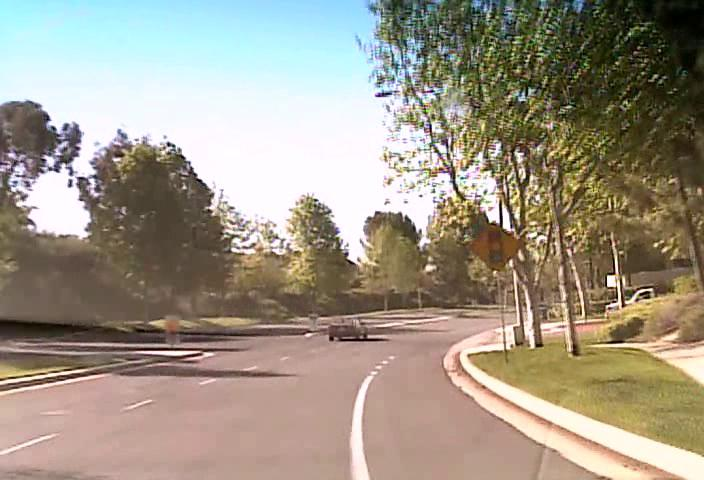signalAhead: (468, 221, 522, 272)
